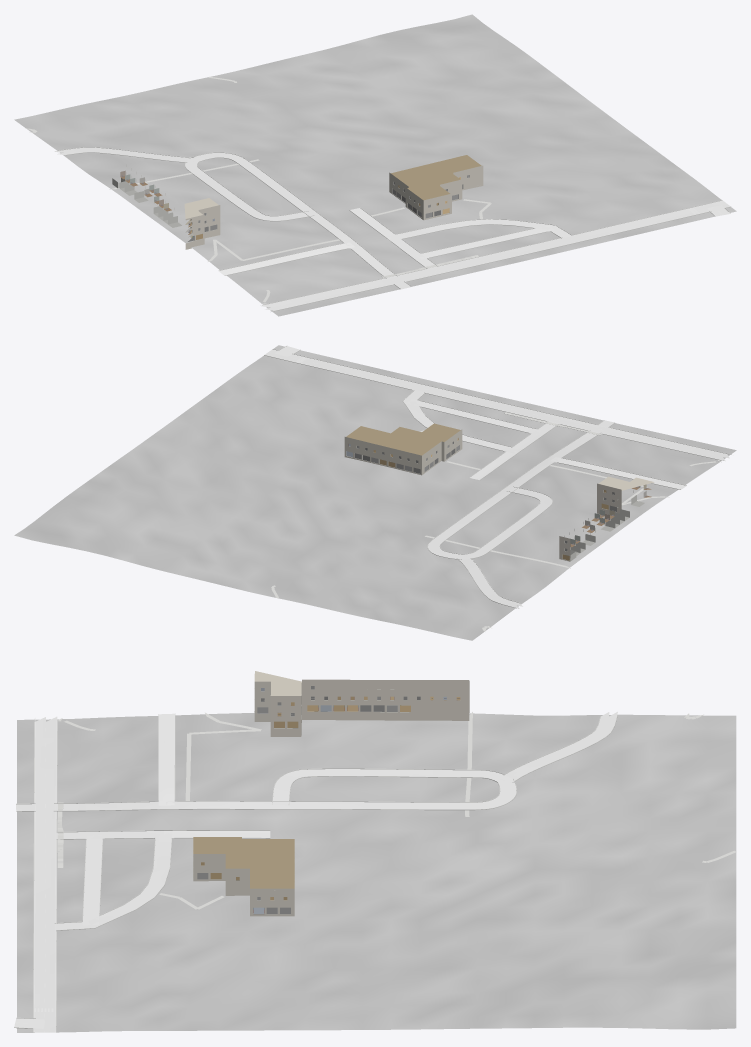
The picture shows the model from 3 angles, top to bottom: view 1: azimuth 30°, elevation 25°; view 2: azimuth 150°, elevation 25°; view 3: azimuth 270°, elevation 25°; orthographic projection. The views are drawn at different scales.
Visible parts, largest first — view 1: ground, concrete, asphalt, curb, wall_com, roof_flat, walk, room; view 2: ground, concrete, asphalt, wall_com, curb, roof_flat, room, walk, glass; view 3: ground, concrete, wall_com, asphalt, roof_flat, curb, walk, glass_lit, glass.
Boxes of the visible parts, x1=… form: ground: x1=14, y1=14, x2=736, y2=316; concrete: x1=54, y1=147, x2=571, y2=289; asphalt: x1=261, y1=200, x2=730, y2=310; curb: x1=55, y1=147, x2=730, y2=311; wall_com: x1=185, y1=165, x2=483, y2=249; roof_flat: x1=184, y1=155, x2=481, y2=218; walk: x1=25, y1=76, x2=491, y2=304; room: x1=112, y1=170, x2=438, y2=239; ground: x1=14, y1=345, x2=736, y2=640; concrete: x1=403, y1=390, x2=686, y2=608; asphalt: x1=265, y1=346, x2=729, y2=461; wall_com: x1=344, y1=429, x2=621, y2=561; curb: x1=264, y1=346, x2=731, y2=608; roof_flat: x1=346, y1=423, x2=654, y2=490; room: x1=346, y1=444, x2=651, y2=561; walk: x1=271, y1=412, x2=721, y2=631; glass: x1=354, y1=441, x2=616, y2=551; ground: x1=17, y1=713, x2=736, y2=1032; concrete: x1=16, y1=712, x2=617, y2=930; wall_com: x1=193, y1=679, x2=469, y2=916; asphalt: x1=14, y1=717, x2=57, y2=1032; roof_flat: x1=193, y1=671, x2=301, y2=888; curb: x1=14, y1=712, x2=617, y2=1032; walk: x1=57, y1=712, x2=736, y2=909; glass_lit: x1=201, y1=688, x2=460, y2=913; glass: x1=197, y1=686, x2=420, y2=913.
Size of the model in its own units: 253 by 21.6 by 251.
